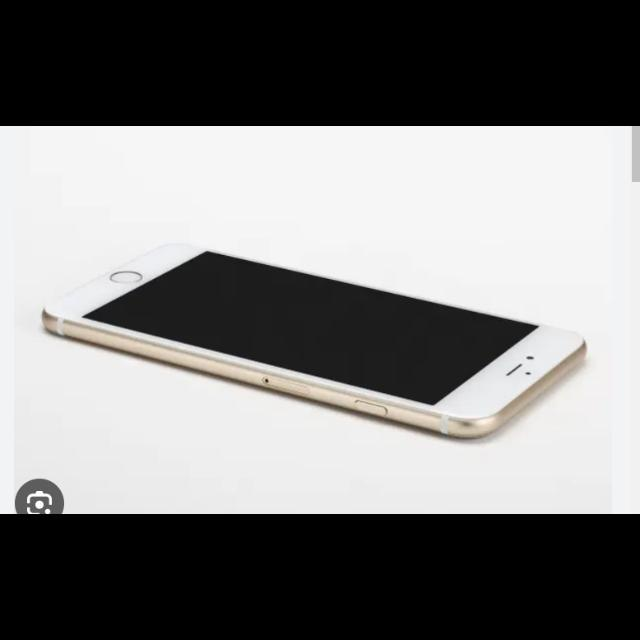Smartphone: (40, 243, 587, 440)
